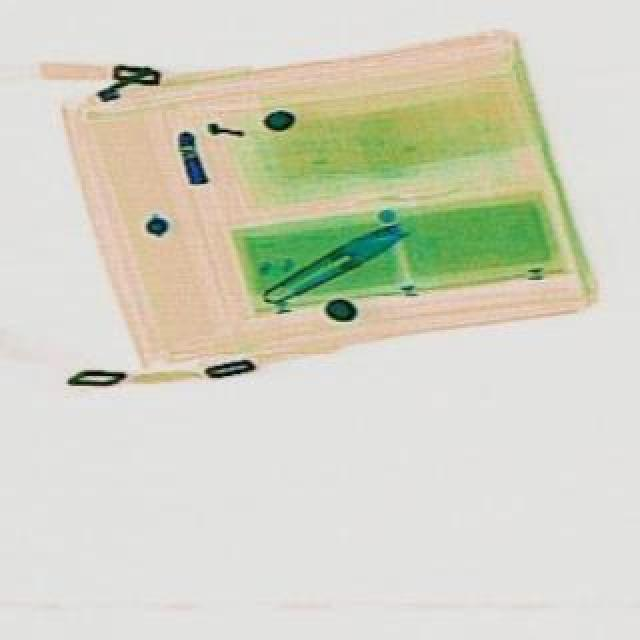pliers: (252, 212, 414, 308)
